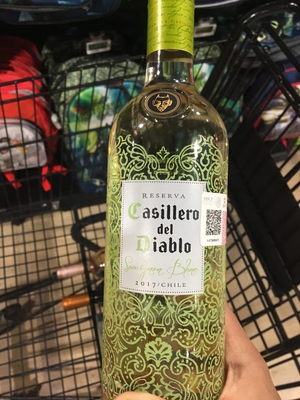casillero del diablo sauvignon blanc: (90, 12, 238, 373)
